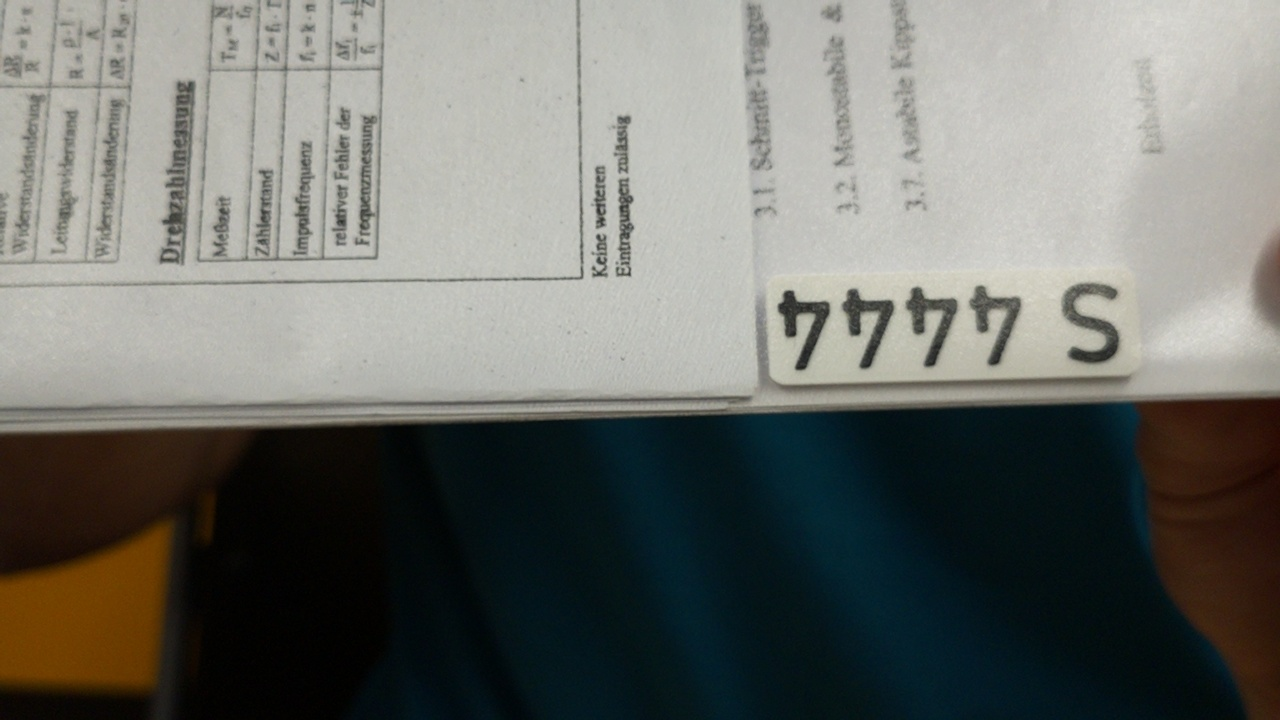license_plate: (759, 267, 1154, 388)
